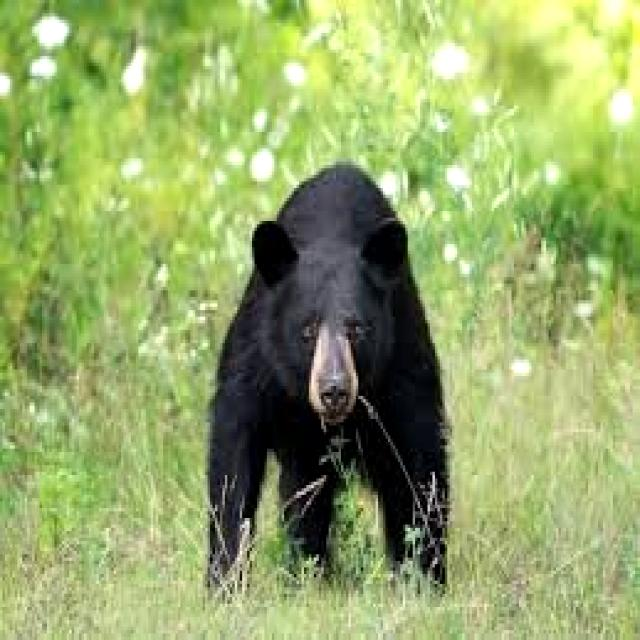bear: (191, 152, 459, 580)
